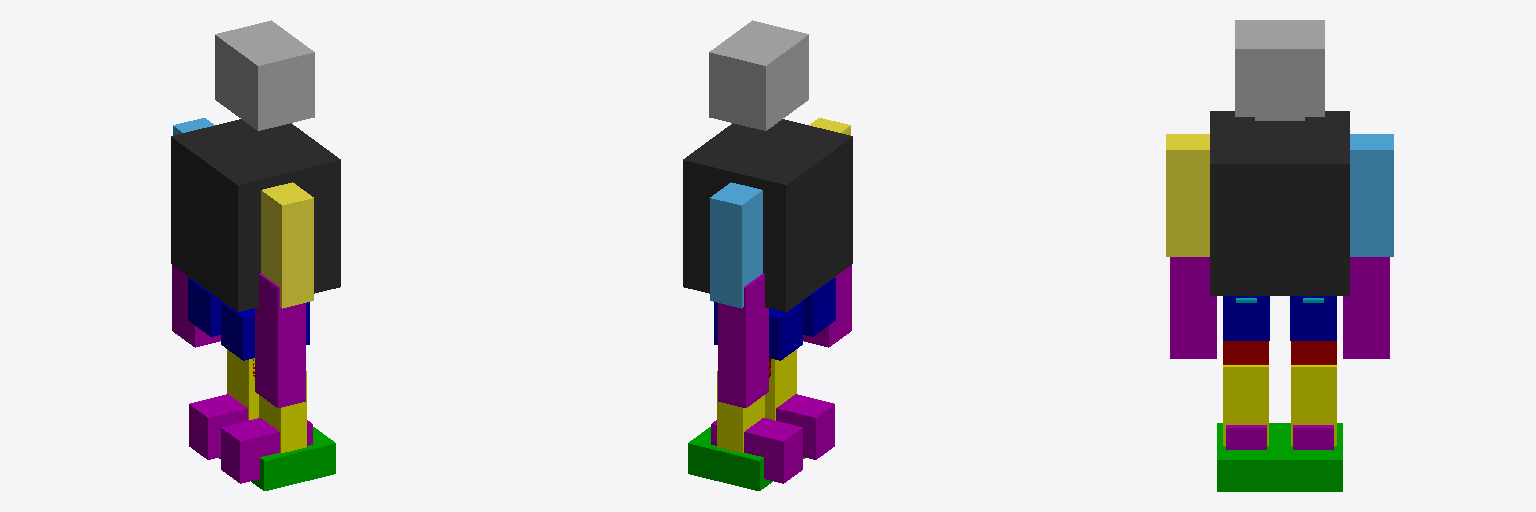
--- What the picture shows (computed from the rendered views, not written in the file) ---
The picture shows the robot from 3 angles, left to right: view 1: azimuth 30°, elevation 25°; view 2: azimuth 150°, elevation 25°; view 3: azimuth 270°, elevation 25°; orthographic projection.
Robot: soccerbot — 21 links, 20 joints (18 revolute, 2 fixed); root link /torso; default pose: all joints at 0.
Links seen in each view (by area): view 1: /torso, /head, /right_bicep, /right_forearm, /right_ankle, /right_foot, /left_ankle, /right_hip_front, /right_calve, /left_forearm, /left_calve, /left_hip_front; view 2: /torso, /head, /left_bicep, /left_forearm, /left_ankle, /left_foot, /right_ankle, /left_hip_front, /left_calve, /right_forearm, /right_calve, /right_hip_front; view 3: /torso, /head, /left_bicep, /right_bicep, /left_forearm, /right_forearm, /left_foot, /right_foot, /left_calve, /right_calve, /left_hip_front, /right_hip_front (+4 smaller).
Boxes of the visible links, bbox=[...] form: /torso: bbox=[171, 119, 340, 311]; /head: bbox=[215, 20, 314, 130]; /right_bicep: bbox=[261, 182, 313, 308]; /right_forearm: bbox=[255, 273, 305, 407]; /right_ankle: bbox=[221, 418, 312, 483]; /right_foot: bbox=[251, 427, 335, 490]; /left_ankle: bbox=[189, 394, 247, 459]; /right_hip_front: bbox=[221, 302, 309, 360]; /right_calve: bbox=[259, 371, 306, 452]; /left_forearm: bbox=[172, 265, 220, 347]; /left_calve: bbox=[227, 349, 258, 420]; /left_hip_front: bbox=[188, 278, 222, 336]; /torso: bbox=[683, 119, 852, 311]; /head: bbox=[709, 20, 808, 130]; /left_bicep: bbox=[710, 182, 762, 308]; /left_forearm: bbox=[718, 273, 768, 407]; /left_ankle: bbox=[711, 418, 802, 483]; /left_foot: bbox=[688, 427, 772, 490]; /right_ankle: bbox=[776, 394, 834, 459]; /left_hip_front: bbox=[714, 302, 802, 360]; /left_calve: bbox=[717, 371, 764, 452]; /right_forearm: bbox=[803, 265, 851, 347]; /right_calve: bbox=[765, 349, 796, 420]; /right_hip_front: bbox=[801, 278, 835, 336]; /torso: bbox=[1210, 111, 1349, 295]; /head: bbox=[1235, 20, 1324, 116]; /left_bicep: bbox=[1350, 134, 1393, 256]; /right_bicep: bbox=[1166, 134, 1209, 256]; /left_forearm: bbox=[1343, 257, 1389, 358]; /right_forearm: bbox=[1170, 257, 1216, 358]; /left_foot: bbox=[1276, 423, 1342, 491]; /right_foot: bbox=[1217, 423, 1283, 491]; /left_calve: bbox=[1291, 365, 1336, 445]; /right_calve: bbox=[1223, 365, 1268, 445]; /left_hip_front: bbox=[1290, 296, 1336, 340]; /right_hip_front: bbox=[1223, 296, 1269, 340].
Bounding box of the posed robot: 0.13 × 0.2378 × 0.5001 m (x, y, z).
Geometry: primitives only (box / cylinder / sphere), no mesh files.

robot.urdf — soccerbot:
<?xml version="1.0" ?>
<!-- =================================================================================== -->
<!-- |    This document was autogenerated by xacro from models/soccerbot.xacro         | -->
<!-- |    EDITING THIS FILE BY HAND IS NOT RECOMMENDED                                 | -->
<!-- =================================================================================== -->
<robot name="soccerbot">
  <material name="silver">
    <color rgba="0.7 0.7 0.7 1.0"/>
  </material>
  <material name="yellow">
    <color rgba="0.9 0.9 0.0 1.0"/>
  </material>
  <material name="red">
    <color rgba="0.7 0.0 0.0 1.0"/>
  </material>
  <material name="green">
    <color rgba="0.0 0.7 0.0 1.0"/>
  </material>
  <material name="blue">
    <color rgba="0.0 0.0 0.7 1.0"/>
  </material>
  <material name="purple">
    <color rgba="0.7 0.0 0.7 1.0"/>
  </material>
  <material name="cyan">
    <color rgba="0.0 0.7 0.7 1.0"/>
  </material>
  <material name="black">
    <color rgba="0.2 0.2 0.2 1.0"/>
  </material>
  <link name="/torso">
    <inertial>
      <mass value="1.529"/>
      <origin rpy="0 0 0" xyz="0.0082498 -0.0017440 -0.0522479"/>
      <inertia ixx="4.323e-3" ixy="5.549e-6" ixz="3.960e-5" iyy="5.198e-3" iyz="-1.509e-5" izz="3.567e-3"/>
    </inertial>
    <collision name="collision">
      <origin rpy="0 0 0" xyz="0 0 -0.052"/>
      <geometry>
        <box size="0.130 0.145 0.152"/>
      </geometry>
    </collision>
    <visual name="visual">
      <origin rpy="0 0 0" xyz="0 0 -0.052"/>
      <geometry>
        <box size="0.130 0.145 0.152"/>
      </geometry>
      <material name="black"/>
    </visual>
  </link>
  <link name="/left_bicep">
    <inertial>
      <mass value="0.000213"/>
      <origin rpy="0  0  0" xyz="0.000 0.02579 -0.04955"/>
      <inertia ixx="2.824e-4" ixy="0.000" ixz="0.0" iyy="2.744e-4" iyz="1.165e-05" izz="2.433e-5"/>
    </inertial>
    <collision name="collision">
      <origin rpy="0  0  0" xyz="0 0.0225 -0.05001"/>
      <geometry>
        <box size="0.04 0.04776 0.123"/>
      </geometry>
    </collision>
    <visual name="visual">
      <origin rpy="0  0  0" xyz="0 0.0225 -0.05001"/>
      <geometry>
        <box size="0.04 0.04776 0.123"/>
      </geometry>
      <material name="white"/>
    </visual>
  </link>
  <link name="/left_forearm">
    <inertial>
      <mass value="45.7e-3"/>
      <origin rpy="0  0  0" xyz="0 0.0245 -0.0546097"/>
      <inertia ixx="0.113e-3" ixy="0.000" ixz="1e-06" iyy="0.107e-3" iyz="0.0" izz="0.012e-3"/>
    </inertial>
    <collision name="collision">
      <origin rpy="0  0  0" xyz="-0.0055 0.0175 -0.0600"/>
      <geometry>
        <box size="0.035 0.049 0.144"/>
      </geometry>
    </collision>
    <visual name="visual">
      <origin rpy="0  0  0" xyz="-0.0055 0.0175 -0.0600"/>
      <geometry>
        <box size="0.035 0.049 0.144"/>
      </geometry>
      <material name="purple"/>
    </visual>
  </link>
  <joint name="left_arm_motor_0" type="revolute">
    <parent link="/torso"/>
    <child link="/left_bicep"/>
    <origin rpy="0 0 0" xyz="-0.0157 0.0725 0"/>
    <axis xyz="0 -1 0"/>
    <dynamics damping="0.01" friction="0.1"/>
    <limit effort="1.5" lower="-1.5707963267948966" upper="3.9269908169872414" velocity="1"/>
  </joint>
  <joint name="left_arm_motor_1" type="revolute">
    <parent link="/left_bicep"/>
    <child link="/left_forearm"/>
    <origin rpy="0 0 0" xyz="0 0 -0.10"/>
    <axis xyz="0 -1 0"/>
    <dynamics damping="0.01" friction="0.1"/>
    <limit effort="1.5" lower="0" upper="3.141592653589793" velocity="1"/>
  </joint>
  <gazebo reference="/left_forearm">
    <mu1>0.2</mu1>
    <mu2>0.2</mu2>
  </gazebo>
  <transmission name="left_arm_motor_0">
    <type>transmission_interface/SimpleTransmission</type>
    <joint name="left_arm_motor_0">
      <hardwareInterface>hardware_interface/EffortJointInterface</hardwareInterface>
    </joint>
    <actuator name="left_arm_motor_0">
      <hardwareInterface>hardware_interface/EffortJointInterface</hardwareInterface>
      <mechanicalReduction>1</mechanicalReduction>
    </actuator>
  </transmission>
  <transmission name="left_arm_motor_1">
    <type>transmission_interface/SimpleTransmission</type>
    <joint name="left_arm_motor_1">
      <hardwareInterface>hardware_interface/EffortJointInterface</hardwareInterface>
    </joint>
    <actuator name="left_arm_motor_1">
      <hardwareInterface>hardware_interface/EffortJointInterface</hardwareInterface>
      <mechanicalReduction>1</mechanicalReduction>
    </actuator>
  </transmission>
  <gazebo reference="/left_bicep">
    <kp>1000000000000000.0</kp>
    <kd>10000000000000.0</kd>
    <mu1>0.2</mu1>
    <mu2>0.2</mu2>
  </gazebo>
  <gazebo reference="/left_forearm">
    <kp>1000000000000000.0</kp>
    <kd>10000000000000.0</kd>
    <mu1>0.2</mu1>
    <mu2>0.2</mu2>
  </gazebo>
  <link name="/right_bicep">
    <inertial>
      <mass value="0.213e-3"/>
      <origin rpy="0  0  0" xyz="0.000 -0.02579 -0.04955"/>
      <inertia ixx="2.824e-4" ixy="0.000" ixz="-0.0" iyy="2.744e-4" iyz="-1.165e-05" izz="2.433e-5"/>
    </inertial>
    <collision name="collision">
      <origin rpy="0  0  0" xyz="0 -0.0225 -0.05001"/>
      <geometry>
        <box size="0.04 0.04776 0.123"/>
      </geometry>
    </collision>
    <visual name="visual">
      <origin rpy="0  0  0" xyz="0 -0.0225 -0.05001"/>
      <geometry>
        <box size="0.04 0.04776 0.123"/>
      </geometry>
      <material name="white"/>
    </visual>
  </link>
  <link name="/right_forearm">
    <inertial>
      <mass value="45.7e-3"/>
      <origin rpy="0  0  0" xyz="0 -0.0245 -0.0546097"/>
      <inertia ixx="0.113e-3" ixy="0.000" ixz="-1e-06" iyy="0.107e-3" iyz="-0.0" izz="0.012e-3"/>
    </inertial>
    <collision name="collision">
      <origin rpy="0  0  0" xyz="-0.0055 -0.0175 -0.0600"/>
      <geometry>
        <box size="0.035 0.049 0.144"/>
      </geometry>
    </collision>
    <visual name="visual">
      <origin rpy="0  0  0" xyz="-0.0055 -0.0175 -0.0600"/>
      <geometry>
        <box size="0.035 0.049 0.144"/>
      </geometry>
      <material name="purple"/>
    </visual>
  </link>
  <joint name="right_arm_motor_0" type="revolute">
    <parent link="/torso"/>
    <child link="/right_bicep"/>
    <origin rpy="0 0 0" xyz="-0.0157 -0.0725 0"/>
    <axis xyz="0 -1 0"/>
    <dynamics damping="0.01" friction="0.1"/>
    <limit effort="1.5" lower="-1.5707963267948966" upper="3.9269908169872414" velocity="1"/>
  </joint>
  <joint name="right_arm_motor_1" type="revolute">
    <parent link="/right_bicep"/>
    <child link="/right_forearm"/>
    <origin rpy="0 0 0" xyz="0 0 -0.10"/>
    <axis xyz="0 -1 0"/>
    <dynamics damping="0.01" friction="0.1"/>
    <limit effort="1.5" lower="0" upper="3.141592653589793" velocity="1"/>
  </joint>
  <gazebo reference="/right_forearm">
    <mu1>0.2</mu1>
    <mu2>0.2</mu2>
  </gazebo>
  <transmission name="right_arm_motor_0">
    <type>transmission_interface/SimpleTransmission</type>
    <joint name="right_arm_motor_0">
      <hardwareInterface>hardware_interface/EffortJointInterface</hardwareInterface>
    </joint>
    <actuator name="right_arm_motor_0">
      <hardwareInterface>hardware_interface/EffortJointInterface</hardwareInterface>
      <mechanicalReduction>1</mechanicalReduction>
    </actuator>
  </transmission>
  <transmission name="right_arm_motor_1">
    <type>transmission_interface/SimpleTransmission</type>
    <joint name="right_arm_motor_1">
      <hardwareInterface>hardware_interface/EffortJointInterface</hardwareInterface>
    </joint>
    <actuator name="right_arm_motor_1">
      <hardwareInterface>hardware_interface/EffortJointInterface</hardwareInterface>
      <mechanicalReduction>1</mechanicalReduction>
    </actuator>
  </transmission>
  <gazebo reference="/right_bicep">
    <kp>1000000000000000.0</kp>
    <kd>10000000000000.0</kd>
    <mu1>0.2</mu1>
    <mu2>0.2</mu2>
  </gazebo>
  <gazebo reference="/right_forearm">
    <kp>1000000000000000.0</kp>
    <kd>10000000000000.0</kd>
    <mu1>0.2</mu1>
    <mu2>0.2</mu2>
  </gazebo>
  <link name="/left_hip_side">
    <inertial>
      <mass value="9.364e-3"/>
      <origin rpy="0  0  0" xyz="0.0003695 0.0000 0.01689"/>
      <inertia ixx="0.002e-3" ixy="0.000" ixz="0.000" iyy="0.005e-3" iyz="0.000" izz="0.004e-3"/>
    </inertial>
    <collision name="collision">
      <origin rpy="0  0  0" xyz="0 0 0.00899"/>
      <geometry>
        <box size="0.0485 0.022 0.0039"/>
      </geometry>
    </collision>
    <visual name="visual">
      <origin rpy="0  0  0" xyz="0 0 0.00899"/>
      <geometry>
        <box size="0.0485 0.022 0.0039"/>
      </geometry>
      <material name="cyan"/>
    </visual>
  </link>
  <link name="/left_hip_front">
    <inertial>
      <mass value="153.186e-3"/>
      <origin rpy="0 0 0" xyz="-0.02093 0 -0.011313"/>
      <inertia ixx="0.041e-3" ixy="0.000" ixz="-0.002e-3" iyy="0.118e-3" iyz="0.000" izz="0.106e-3"/>
    </inertial>
    <collision name="collision">
      <origin rpy="0 0 0" xyz="-0.02187 0 -0.01332"/>
      <geometry>
        <box size="0.083747 0.04885 0.0506"/>
      </geometry>
    </collision>
    <visual name="visual">
      <origin rpy="0 0 0" xyz="-0.02187 0 -0.01332"/>
      <geometry>
        <box size="0.083747 0.04885 0.0506"/>
      </geometry>
      <material name="blue"/>
    </visual>
  </link>
  <link name="/left_thigh">
    <inertial>
      <mass value="21.438e-3"/>
      <origin rpy="0 0 0" xyz="0.0019422 0.0001419 -0.0469409"/>
      <inertia ixx="0.025e-3" ixy="2e-06" ixz="0.000" iyy="0.016e-3" iyz="0.000" izz="0.010e-3"/>
    </inertial>
    <collision name="collision">
      <origin rpy="0 0 0" xyz="0 0 -0.0445"/>
      <geometry>
        <box size="0.022 0.048 0.111"/>
      </geometry>
    </collision>
    <visual name="visual">
      <origin rpy="0 0 0" xyz="0 0 -0.0445"/>
      <geometry>
        <box size="0.022 0.048 0.111"/>
      </geometry>
      <material name="red"/>
    </visual>
  </link>
  <link name="/left_calve">
    <inertial>
      <mass value="86.547e-3"/>
      <origin rpy="0  0  0" xyz="0 -3.259e-07 -0.0150123e-3"/>
      <inertia ixx="0.054e-3" ixy="0.000" ixz="0.000" iyy="0.046e-3" iyz="-0.001e-3" izz="0.019e-3"/>
    </inertial>
    <collision name="collision">
      <origin rpy="0 0 0" xyz="0 0 -0.03385"/>
      <geometry>
        <box size="0.031883 0.048 0.105683"/>
      </geometry>
    </collision>
    <visual name="visual">
      <origin rpy="0 0 0" xyz="0 0 -0.03385"/>
      <geometry>
        <box size="0.031883 0.048 0.105683"/>
      </geometry>
      <material name="yellow"/>
    </visual>
  </link>
  <link name="/left_ankle">
    <inertial>
      <mass value="153.186e-3"/>
      <origin rpy="0 0 0" xyz="-0.020939e-3 0.000 0.011313e-3"/>
      <inertia ixx="0.041e-3" ixy="0.000" ixz="0.002e-3" iyy="0.118e-3" iyz="0.000" izz="0.106e-3"/>
    </inertial>
    <collision name="collision">
      <origin rpy="0 0 0" xyz="-0.02014 0 0.01031"/>
      <geometry>
        <box size="0.090769 0.042 0.0506"/>
      </geometry>
    </collision>
    <visual name="visual">
      <origin rpy="0 0 0" xyz="-0.02014 0 0.01031"/>
      <geometry>
        <box size="0.090769 0.042 0.0506"/>
      </geometry>
      <material name="purple"/>
    </visual>
  </link>
  <link name="/left_foot">
    <inertial>
      <mass value="23.216e-3"/>
      <origin rpy="0 0 0" xyz="-0.020939 0.0 0.011313"/>
      <inertia ixx="0.006e-3" ixy="0.000" ixz="0.000" iyy="0.018e-3" iyz="0.000" izz="0.022e-3"/>
    </inertial>
    <collision name="collision">
      <origin rpy="0 0 0" xyz="0.00385 -0.00401 -0.00737 "/>
      <geometry>
        <box size="0.09 0.07 0.03674"/>
      </geometry>
      <contact_coefficients mu="100.0"/>
    </collision>
    <visual name="visual">
      <origin rpy="0 0 0" xyz="0.00385 -0.00401 -0.00737 "/>
      <geometry>
        <box size="0.09 0.07 0.03674"/>
      </geometry>
      <material name="green"/>
    </visual>
  </link>
  <joint name="left_leg_motor_0" type="revolute">
    <parent link="/torso"/>
    <child link="/left_hip_side"/>
    <origin rpy="0 0 0" xyz="0.0135 0.035 -0.156"/>
    <axis xyz="0 0 -1"/>
    <dynamics damping="0.01" friction="0.1"/>
    <limit effort="2.5" lower="-1.309" upper="0.524" velocity="1"/>
  </joint>
  <joint name="left_leg_motor_1" type="revolute">
    <parent link="/left_hip_side"/>
    <child link="/left_hip_front"/>
    <origin rpy="0 0 0" xyz="0 0 0"/>
    <axis xyz="1 0 0"/>
    <dynamics damping="0.01" friction="0.1"/>
    <limit effort="2.5" lower="-0.7853981633974483" upper="1.5707963267948966" velocity="1"/>
  </joint>
  <joint name="left_leg_motor_2" type="revolute">
    <parent link="/left_hip_front"/>
    <child link="/left_thigh"/>
    <origin rpy="0 0 0" xyz="0 0 0"/>
    <axis xyz="0 -1 0"/>
    <dynamics damping="0.01" friction="0.1"/>
    <limit effort="2.5" lower="-0.7853981633974483" upper="2.356194490192345" velocity="1"/>
  </joint>
  <joint name="left_leg_motor_3" type="revolute">
    <parent link="/left_thigh"/>
    <child link="/left_calve"/>
    <origin rpy="0 0 0" xyz="0 0 -0.0890"/>
    <axis xyz="0 -1 0"/>
    <dynamics damping="0.01" friction="0.1"/>
    <limit effort="2.5" lower="-2.793" upper="0" velocity="1"/>
  </joint>
  <joint name="left_leg_motor_4" type="revolute">
    <parent link="/left_calve"/>
    <child link="/left_ankle"/>
    <origin rpy="0 0 0" xyz="0 0 -0.0827"/>
    <axis xyz="0 -1 0"/>
    <dynamics damping="0.01" friction="0.1"/>
    <limit effort="2.5" lower="-0.7853981633974483" upper="1.5707963267948966" velocity="1"/>
  </joint>
  <joint name="left_leg_motor_5" type="revolute">
    <parent link="/left_ankle"/>
    <child link="/left_foot"/>
    <origin rpy="0 0 0" xyz="0 0 0"/>
    <axis xyz="1 0 0"/>
    <dynamics damping="0.01" friction="0.1"/>
    <limit effort="2.5" lower="-0.7853981633974483" upper="0.7853981633974483" velocity="1"/>
  </joint>
  <transmission name="left_leg_motor_0">
    <type>transmission_interface/SimpleTransmission</type>
    <joint name="left_leg_motor_0">
      <hardwareInterface>hardware_interface/EffortJointInterface</hardwareInterface>
    </joint>
    <actuator name="left_leg_motor_0">
      <hardwareInterface>hardware_interface/EffortJointInterface</hardwareInterface>
      <mechanicalReduction>1</mechanicalReduction>
    </actuator>
  </transmission>
  <transmission name="left_leg_motor_1">
    <type>transmission_interface/SimpleTransmission</type>
    <joint name="left_leg_motor_1">
      <hardwareInterface>hardware_interface/EffortJointInterface</hardwareInterface>
    </joint>
    <actuator name="left_leg_motor_1">
      <hardwareInterface>hardware_interface/EffortJointInterface</hardwareInterface>
      <mechanicalReduction>1</mechanicalReduction>
    </actuator>
  </transmission>
  <transmission name="left_leg_motor_2">
    <type>transmission_interface/SimpleTransmission</type>
    <joint name="left_leg_motor_2">
      <hardwareInterface>hardware_interface/EffortJointInterface</hardwareInterface>
    </joint>
    <actuator name="left_leg_motor_2">
      <hardwareInterface>hardware_interface/EffortJointInterface</hardwareInterface>
      <mechanicalReduction>1</mechanicalReduction>
    </actuator>
  </transmission>
  <transmission name="left_leg_motor_3">
    <type>transmission_interface/SimpleTransmission</type>
    <joint name="left_leg_motor_3">
      <hardwareInterface>hardware_interface/EffortJointInterface</hardwareInterface>
    </joint>
    <actuator name="left_leg_motor_3">
      <hardwareInterface>hardware_interface/EffortJointInterface</hardwareInterface>
      <mechanicalReduction>1</mechanicalReduction>
    </actuator>
  </transmission>
  <transmission name="left_leg_motor_4">
    <type>transmission_interface/SimpleTransmission</type>
    <joint name="left_leg_motor_4">
      <hardwareInterface>hardware_interface/EffortJointInterface</hardwareInterface>
    </joint>
    <actuator name="left_leg_motor_4">
      <hardwareInterface>hardware_interface/EffortJointInterface</hardwareInterface>
      <mechanicalReduction>1</mechanicalReduction>
    </actuator>
  </transmission>
  <transmission name="left_leg_motor_5">
    <type>transmission_interface/SimpleTransmission</type>
    <joint name="left_leg_motor_5">
      <hardwareInterface>hardware_interface/EffortJointInterface</hardwareInterface>
    </joint>
    <actuator name="left_leg_motor_5">
      <hardwareInterface>hardware_interface/EffortJointInterface</hardwareInterface>
      <mechanicalReduction>1</mechanicalReduction>
    </actuator>
  </transmission>
  <gazebo reference="/left_hip_side">
    <kp>1000000000000000.0</kp>
    <kd>10000000000000.0</kd>
    <mu1>0.2</mu1>
    <mu2>0.2</mu2>
  </gazebo>
  <gazebo reference="/left_hip_front">
    <kp>1000000000000000.0</kp>
    <kd>10000000000000.0</kd>
    <mu1>0.2</mu1>
    <mu2>0.2</mu2>
  </gazebo>
  <gazebo reference="/left_thigh">
    <kp>1000000000000000.0</kp>
    <kd>10000000000000.0</kd>
    <mu1>0.2</mu1>
    <mu2>0.2</mu2>
  </gazebo>
  <gazebo reference="/left_calve">
    <kp>1000000000000000.0</kp>
    <kd>10000000000000.0</kd>
    <mu1>0.2</mu1>
    <mu2>0.2</mu2>
  </gazebo>
  <gazebo reference="/left_ankle">
    <kp>1000000000000000.0</kp>
    <kd>10000000000000.0</kd>
    <mu1>0.2</mu1>
    <mu2>0.2</mu2>
  </gazebo>
  <gazebo reference="/left_foot">
    <mu1>0.2</mu1>
    <mu2>0.2</mu2>
  </gazebo>
  <link name="/right_hip_side">
    <inertial>
      <mass value="9.364e-3"/>
      <origin rpy="0  0  0" xyz="0.0003695 0.0000 0.01689"/>
      <inertia ixx="0.002e-3" ixy="0.000" ixz="0.000" iyy="0.005e-3" iyz="0.000" izz="0.004e-3"/>
    </inertial>
    <collision name="collision">
      <origin rpy="0  0  0" xyz="0 0 0.00899"/>
      <geometry>
        <box size="0.0485 0.022 0.0039"/>
      </geometry>
    </collision>
    <visual name="visual">
      <origin rpy="0  0  0" xyz="0 0 0.00899"/>
      <geometry>
        <box size="0.0485 0.022 0.0039"/>
      </geometry>
      <material name="cyan"/>
    </visual>
  </link>
  <link name="/right_hip_front">
    <inertial>
      <mass value="153.186e-3"/>
      <origin rpy="0 0 0" xyz="-0.02093 0 -0.011313"/>
      <inertia ixx="0.041e-3" ixy="0.000" ixz="-0.002e-3" iyy="0.118e-3" iyz="0.000" izz="0.106e-3"/>
    </inertial>
    <collision name="collision">
      <origin rpy="0 0 0" xyz="-0.02187 0 -0.01332"/>
      <geometry>
        <box size="0.083747 0.04885 0.0506"/>
      </geometry>
    </collision>
    <visual name="visual">
      <origin rpy="0 0 0" xyz="-0.02187 0 -0.01332"/>
      <geometry>
        <box size="0.083747 0.04885 0.0506"/>
      </geometry>
      <material name="blue"/>
    </visual>
  </link>
  <link name="/right_thigh">
    <inertial>
      <mass value="21.438e-3"/>
      <origin rpy="0 0 0" xyz="0.0019422 -0.0001419 -0.0469409"/>
      <inertia ixx="0.025e-3" ixy="-2e-06" ixz="0.000" iyy="0.016e-3" iyz="0.000" izz="0.010e-3"/>
    </inertial>
    <collision name="collision">
      <origin rpy="0 0 0" xyz="0 0 -0.0445"/>
      <geometry>
        <box size="0.022 0.048 0.111"/>
      </geometry>
    </collision>
    <visual name="visual">
      <origin rpy="0 0 0" xyz="0 0 -0.0445"/>
      <geometry>
        <box size="0.022 0.048 0.111"/>
      </geometry>
      <material name="red"/>
    </visual>
  </link>
  <link name="/right_calve">
    <inertial>
      <mass value="86.547e-3"/>
      <origin rpy="0  0  0" xyz="0 3.259e-07 -0.0150123e-3"/>
      <inertia ixx="0.054e-3" ixy="0.000" ixz="0.000" iyy="0.046e-3" iyz="-0.001e-3" izz="0.019e-3"/>
    </inertial>
    <collision name="collision">
      <origin rpy="0 0 0" xyz="0 0 -0.03385"/>
      <geometry>
        <box size="0.031883 0.048 0.105683"/>
      </geometry>
    </collision>
    <visual name="visual">
      <origin rpy="0 0 0" xyz="0 0 -0.03385"/>
      <geometry>
        <box size="0.031883 0.048 0.105683"/>
      </geometry>
      <material name="yellow"/>
    </visual>
  </link>
  <link name="/right_ankle">
    <inertial>
      <mass value="153.186e-3"/>
      <origin rpy="0 0 0" xyz="-0.020939e-3 0.000 0.011313e-3"/>
      <inertia ixx="0.041e-3" ixy="0.000" ixz="0.002e-3" iyy="0.118e-3" iyz="0.000" izz="0.106e-3"/>
    </inertial>
    <collision name="collision">
      <origin rpy="0 0 0" xyz="-0.02014 0 0.01031"/>
      <geometry>
        <box size="0.090769 0.042 0.0506"/>
      </geometry>
    </collision>
    <visual name="visual">
      <origin rpy="0 0 0" xyz="-0.02014 0 0.01031"/>
      <geometry>
        <box size="0.090769 0.042 0.0506"/>
      </geometry>
      <material name="purple"/>
    </visual>
  </link>
  <link name="/right_foot">
    <inertial>
      <mass value="23.216e-3"/>
      <origin rpy="0 0 0" xyz="-0.020939 0.0 0.011313"/>
      <inertia ixx="0.006e-3" ixy="0.000" ixz="0.000" iyy="0.018e-3" iyz="0.000" izz="0.022e-3"/>
    </inertial>
    <collision name="collision">
      <origin rpy="0 0 0" xyz="0.00385 0.00401 -0.00737 "/>
      <geometry>
        <box size="0.09 0.07 0.03674"/>
      </geometry>
      <contact_coefficients mu="100.0"/>
    </collision>
    <visual name="visual">
      <origin rpy="0 0 0" xyz="0.00385 0.00401 -0.00737 "/>
      <geometry>
        <box size="0.09 0.07 0.03674"/>
      </geometry>
      <material name="green"/>
    </visual>
  </link>
  <joint name="right_leg_motor_0" type="revolute">
    <parent link="/torso"/>
    <child link="/right_hip_side"/>
    <origin rpy="0 0 0" xyz="0.0135 -0.035 -0.156"/>
    <axis xyz="0 0 1"/>
    <dynamics damping="0.01" friction="0.1"/>
    <limit effort="2.5" lower="-1.309" upper="0.524" velocity="1"/>
  </joint>
  <joint name="right_leg_motor_1" type="revolute">
    <parent link="/right_hip_side"/>
    <child link="/right_hip_front"/>
    <origin rpy="0 0 0" xyz="0 0 0"/>
    <axis xyz="-1 0 0"/>
    <dynamics damping="0.01" friction="0.1"/>
    <limit effort="2.5" lower="-0.7853981633974483" upper="1.5707963267948966" velocity="1"/>
  </joint>
  <joint name="right_leg_motor_2" type="revolute">
    <parent link="/right_hip_front"/>
    <child link="/right_thigh"/>
    <origin rpy="0 0 0" xyz="0 0 0"/>
    <axis xyz="0 -1 0"/>
    <dynamics damping="0.01" friction="0.1"/>
    <limit effort="2.5" lower="-0.7853981633974483" upper="2.356194490192345" velocity="1"/>
  </joint>
  <joint name="right_leg_motor_3" type="revolute">
    <parent link="/right_thigh"/>
    <child link="/right_calve"/>
    <origin rpy="0 0 0" xyz="0 0 -0.0890"/>
    <axis xyz="0 -1 0"/>
    <dynamics damping="0.01" friction="0.1"/>
    <limit effort="2.5" lower="-2.793" upper="0" velocity="1"/>
  </joint>
  <joint name="right_leg_motor_4" type="revolute">
    <parent link="/right_calve"/>
    <child link="/right_ankle"/>
    <origin rpy="0 0 0" xyz="0 0 -0.0827"/>
    <axis xyz="0 -1 0"/>
    <dynamics damping="0.01" friction="0.1"/>
    <limit effort="2.5" lower="-0.7853981633974483" upper="1.5707963267948966" velocity="1"/>
  </joint>
  <joint name="right_leg_motor_5" type="revolute">
    <parent link="/right_ankle"/>
    <child link="/right_foot"/>
    <origin rpy="0 0 0" xyz="0 0 0"/>
    <axis xyz="-1 0 0"/>
    <dynamics damping="0.01" friction="0.1"/>
    <limit effort="2.5" lower="-0.7853981633974483" upper="0.7853981633974483" velocity="1"/>
  </joint>
  <transmission name="right_leg_motor_0">
    <type>transmission_interface/SimpleTransmission</type>
    <joint name="right_leg_motor_0">
      <hardwareInterface>hardware_interface/EffortJointInterface</hardwareInterface>
    </joint>
    <actuator name="right_leg_motor_0">
      <hardwareInterface>hardware_interface/EffortJointInterface</hardwareInterface>
      <mechanicalReduction>1</mechanicalReduction>
    </actuator>
  </transmission>
  <transmission name="right_leg_motor_1">
    <type>transmission_interface/SimpleTransmission</type>
    <joint name="right_leg_motor_1">
      <hardwareInterface>hardware_interface/EffortJointInterface</hardwareInterface>
    </joint>
    <actuator name="right_leg_motor_1">
      <hardwareInterface>hardware_interface/EffortJointInterface</hardwareInterface>
      <mechanicalReduction>1</mechanicalReduction>
    </actuator>
  </transmission>
  <transmission name="right_leg_motor_2">
    <type>transmission_interface/SimpleTransmission</type>
    <joint name="right_leg_motor_2">
      <hardwareInterface>hardware_interface/EffortJointInterface</hardwareInterface>
    </joint>
    <actuator name="right_leg_motor_2">
      <hardwareInterface>hardware_interface/EffortJointInterface</hardwareInterface>
      <mechanicalReduction>1</mechanicalReduction>
    </actuator>
  </transmission>
  <transmission name="right_leg_motor_3">
    <type>transmission_interface/SimpleTransmission</type>
    <joint name="right_leg_motor_3">
      <hardwareInterface>hardware_interface/EffortJointInterface</hardwareInterface>
    </joint>
    <actuator name="right_leg_motor_3">
      <hardwareInterface>hardware_interface/EffortJointInterface</hardwareInterface>
      <mechanicalReduction>1</mechanicalReduction>
    </actuator>
  </transmission>
  <transmission name="right_leg_motor_4">
    <type>transmission_interface/SimpleTransmission</type>
    <joint name="right_leg_motor_4">
      <hardwareInterface>hardware_interface/EffortJointInterface</hardwareInterface>
    </joint>
    <actuator name="right_leg_motor_4">
      <hardwareInterface>hardware_interface/EffortJointInterface</hardwareInterface>
      <mechanicalReduction>1</mechanicalReduction>
    </actuator>
  </transmission>
  <transmission name="right_leg_motor_5">
    <type>transmission_interface/SimpleTransmission</type>
    <joint name="right_leg_motor_5">
      <hardwareInterface>hardware_interface/EffortJointInterface</hardwareInterface>
    </joint>
    <actuator name="right_leg_motor_5">
      <hardwareInterface>hardware_interface/EffortJointInterface</hardwareInterface>
      <mechanicalReduction>1</mechanicalReduction>
    </actuator>
  </transmission>
  <gazebo reference="/right_hip_side">
    <kp>1000000000000000.0</kp>
    <kd>10000000000000.0</kd>
    <mu1>0.2</mu1>
    <mu2>0.2</mu2>
  </gazebo>
  <gazebo reference="/right_hip_front">
    <kp>1000000000000000.0</kp>
    <kd>10000000000000.0</kd>
    <mu1>0.2</mu1>
    <mu2>0.2</mu2>
  </gazebo>
  <gazebo reference="/right_thigh">
    <kp>1000000000000000.0</kp>
    <kd>10000000000000.0</kd>
    <mu1>0.2</mu1>
    <mu2>0.2</mu2>
  </gazebo>
  <gazebo reference="/right_calve">
    <kp>1000000000000000.0</kp>
    <kd>10000000000000.0</kd>
    <mu1>0.2</mu1>
    <mu2>0.2</mu2>
  </gazebo>
  <gazebo reference="/right_ankle">
    <kp>1000000000000000.0</kp>
    <kd>10000000000000.0</kd>
    <mu1>0.2</mu1>
    <mu2>0.2</mu2>
  </gazebo>
  <gazebo reference="/right_foot">
    <mu1>0.2</mu1>
    <mu2>0.2</mu2>
  </gazebo>
  <link name="/neck">
    <inertial>
      <mass value="0.011294"/>
      <origin rpy="0  0  0" xyz="0 -0.0006476 0.0092453"/>
      <inertia ixx="5.489e-6" ixy="0" ixz="0" iyy="1.433e-6" iyz="0" izz="4.955e-6"/>
    </inertial>
    <collision name="collision">
      <origin rpy="0  0  0" xyz="0 0 0.0165"/>
      <geometry>
        <box size="0.022 0.0523 0.033"/>
      </geometry>
    </collision>
    <visual name="visual">
      <origin rpy="0  0  0" xyz="0 0 0.0165"/>
      <geometry>
        <box size="0.022 0.0523 0.033"/>
      </geometry>
      <material name="silver"/>
    </visual>
  </link>
  <link name="/head">
    <inertial>
      <mass value="0.282"/>
      <origin rpy="0  0  0" xyz="0.0237166 0.0018096 0.0255966"/>
      <inertia ixx="2.06e-4" ixy="1.06e-6" ixz="-5.73e-5" iyy="2.057e-4" iyz="2.534e-6" izz="1.603e-4"/>
    </inertial>
    <collision name="collision">
      <origin rpy="0  0  0" xyz="-0.013 0 0.025"/>
      <geometry>
        <box size="0.0712 0.094 0.0779"/>
      </geometry>
    </collision>
    <visual name="visual">
      <origin rpy="0  0  0" xyz="-0.013 0 0.025"/>
      <geometry>
        <box size="0.0712 0.094 0.0779"/>
      </geometry>
      <material name="silver"/>
    </visual>
  </link>
  <joint name="head_motor_0" type="revolute">
    <parent link="/torso"/>
    <child link="/neck"/>
    <origin rpy="0 0 0" xyz="0.024 0 0.05875"/>
    <axis xyz="0 0 1"/>
    <dynamics damping="0.01" friction="0.1"/>
    <limit effort="1.5" lower="-1.5707963267948966" upper="1.5707963267948966" velocity="1"/>
  </joint>
  <joint name="head_motor_1" type="revolute">
    <parent link="/neck"/>
    <child link="/head"/>
    <origin rpy="0 0 0" xyz="0 0 0.024"/>
    <axis xyz="0 1 0"/>
    <dynamics damping="0.01" friction="0.1"/>
    <limit effort="1.5" lower="-2.356194490192345" upper="2.356194490192345" velocity="1"/>
  </joint>
  <transmission name="head_motor_0">
    <type>transmission_interface/SimpleTransmission</type>
    <joint name="head_motor_0">
      <hardwareInterface>hardware_interface/EffortJointInterface</hardwareInterface>
    </joint>
    <actuator name="head_motor_0">
      <hardwareInterface>hardware_interface/EffortJointInterface</hardwareInterface>
      <mechanicalReduction>1</mechanicalReduction>
    </actuator>
  </transmission>
  <transmission name="head_motor_1">
    <type>transmission_interface/SimpleTransmission</type>
    <joint name="head_motor_1">
      <hardwareInterface>hardware_interface/EffortJointInterface</hardwareInterface>
    </joint>
    <actuator name="head_motor_1">
      <hardwareInterface>hardware_interface/EffortJointInterface</hardwareInterface>
      <mechanicalReduction>1</mechanicalReduction>
    </actuator>
  </transmission>
  <gazebo reference="/neck">
    <kp>1000000000000000.0</kp>
    <kd>10000000000000.0</kd>
    <mu1>0.2</mu1>
    <mu2>0.2</mu2>
  </gazebo>
  <gazebo reference="/head">
    <kp>1000000000000000.0</kp>
    <kd>10000000000000.0</kd>
    <mu1>0.2</mu1>
    <mu2>0.2</mu2>
  </gazebo>
  <link name="/imu_link">
    <inertial>
      <mass value="0.01"/>
      <origin rpy="0  0  0" xyz="0 0 0"/>
      <inertia ixx="1e-9" ixy="0" ixz="0" iyy="1e-9" iyz="0" izz="1e-9"/>
    </inertial>
  </link>
  <joint name="/torso_imu" type="fixed">
    <parent link="/torso"/>
    <child link="/imu_link"/>
    <origin rpy="0 0 0" xyz="0.0 0 0.0"/>
    <axis xyz="0 0 0"/>
  </joint>
  <gazebo reference="/imu_link">
    <gravity>true</gravity>
    <sensor name="imu_sensor" type="imu">
      <always_on>true</always_on>
      <update_rate>100</update_rate>
      <visualize>true</visualize>
      <topic>__default_topic__</topic>
      <plugin filename="libgazebo_ros_imu_sensor.so" name="imu_plugin">
        <topicName>imu_raw</topicName>
        <bodyName>imu_link</bodyName>
        <updateRateHZ>50.0</updateRateHZ>
        <gaussianNoise>0.0</gaussianNoise>
        <xyzOffset>0 0 0</xyzOffset>
        <rpyOffset>0 0 0</rpyOffset>
        <frameName>imu_link</frameName>
      </plugin>
      <pose>0 0 0 0 0 0</pose>
    </sensor>
  </gazebo>
  <gazebo reference="/imu_link">
    <kp>1000000000000000.0</kp>
    <kd>10000000000000.0</kd>
    <mu1>0.2</mu1>
    <mu2>0.2</mu2>
  </gazebo>
  <link name="/camera">
    <inertial>
      <mass value="0.01"/>
      <origin rpy="0  0  0" xyz="0 0 0"/>
      <inertia ixx="1e-9" ixy="0" ixz="0" iyy="1e-9" iyz="0" izz="1e-9"/>
    </inertial>
  </link>
  <joint name="/head_camera" type="fixed">
    <parent link="/head"/>
    <child link="/camera"/>
    <origin rpy="0 0 0" xyz="0.015 0.00145 0.04740"/>
    <axis xyz="0  0  0"/>
    <dynamics damping="0.01" friction="0.1"/>
    <limit effort="0" lower="0" upper="0" velocity="0"/>
  </joint>
  <gazebo reference="/camera">
    <sensor name="main_camera" type="camera">
      <always_on>1</always_on>
      <visualize>1</visualize>
      <update_rate>30</update_rate>
      <camera>
        <horizontal_fov>1.39626</horizontal_fov>
        <image>
          <width>640</width>
          <height>480</height>
          <format>R8G8B8</format>
        </image>
        <clip>
          <near>0.2</near>
          <far>10</far>
        </clip>
        <noise>
          <type>gaussian</type>
          <mean>0</mean>
          <stddev>0.007</stddev>
        </noise>
      </camera>
      <plugin filename="libgazebo_ros_camera.so" name="camera_controller">
        <alwaysOn>true</alwaysOn>
        <updateRate>0.0</updateRate>
        <cameraName>camera</cameraName>
        <imageTopicName>image_raw</imageTopicName>
        <cameraInfoTopicName>camera_info</cameraInfoTopicName>
        <frameName>camera_link</frameName>
        <hackBaseline>0.07</hackBaseline>
        <distortionK1>0.0</distortionK1>
        <distortionK2>0.0</distortionK2>
        <distortionK3>0.0</distortionK3>
        <distortionT1>0.0</distortionT1>
        <distortionT2>0.0</distortionT2>
      </plugin>
    </sensor>
  </gazebo>
  <gazebo reference="/camera">
    <kp>1000000000000000.0</kp>
    <kd>10000000000000.0</kd>
    <mu1>0.2</mu1>
    <mu2>0.2</mu2>
  </gazebo>
  <gazebo>
    <plugin filename="libgazebo_ros_control.so" name="gazebo_ros_control">
      <robotNamespace>/</robotNamespace>
      <robotSimType>gazebo_ros_control/DefaultRobotHWSim</robotSimType>
    </plugin>
    <plugin filename="libgazebo_ros_p3d.so" name="p3d_base_controller">
      <alwaysOn>true</alwaysOn>
      <updateRate>50.0</updateRate>
      <bodyName>base_footprint</bodyName>
      <topicName>odom_ground_truth</topicName>
      <gaussianNoise>0.01</gaussianNoise>
      <frameName>world</frameName>
      <xyzOffsets>0 0 0</xyzOffsets>
      <rpyOffsets>0 0 0</rpyOffsets>
    </plugin>
  </gazebo>
  <gazebo reference="/torso">
    <kp>1000000000000000.0</kp>
    <kd>10000000000000.0</kd>
    <mu1>0.2</mu1>
    <mu2>0.2</mu2>
  </gazebo>
</robot>
